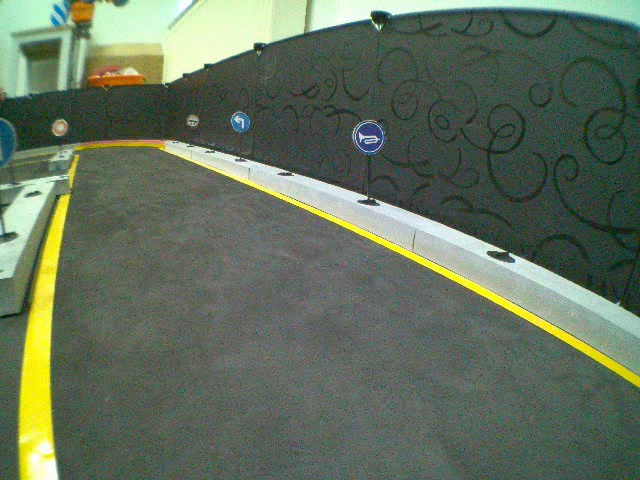Check: (183, 112, 203, 129)
Stop: (51, 119, 72, 140)
horn: (352, 119, 387, 152)
turn: (229, 112, 254, 132)
